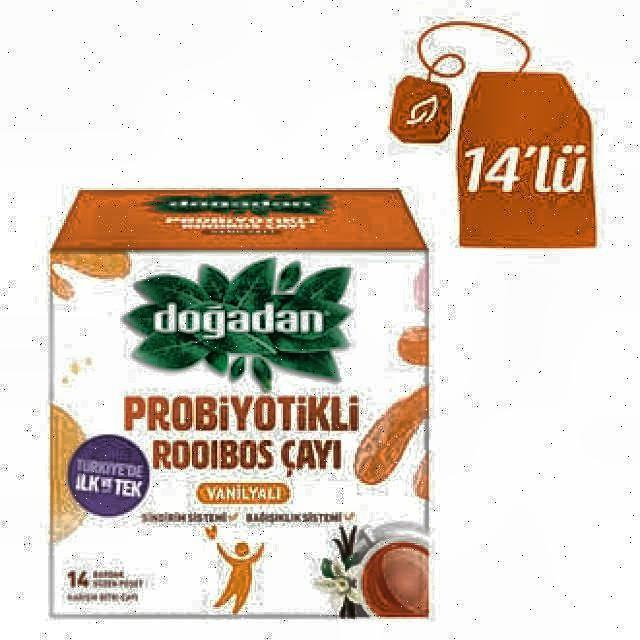cardboard: (50, 188, 430, 620)
